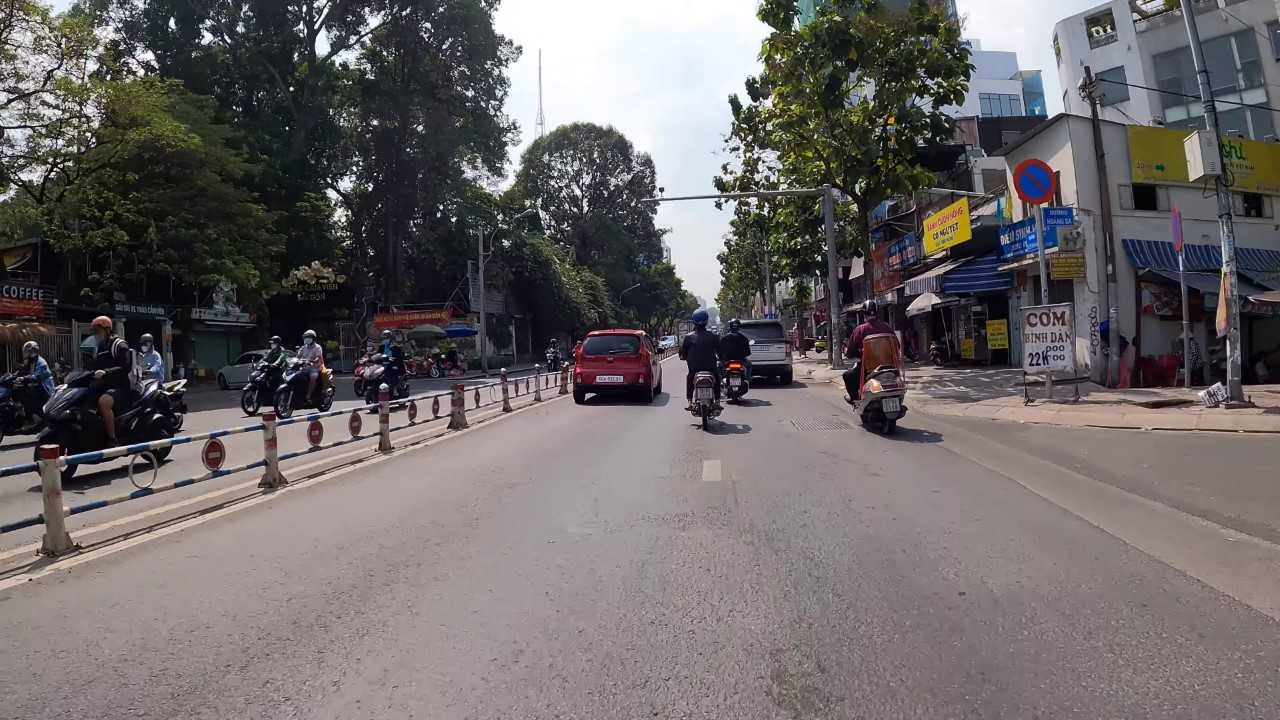cam_do_xe: (1009, 155, 1058, 207)
